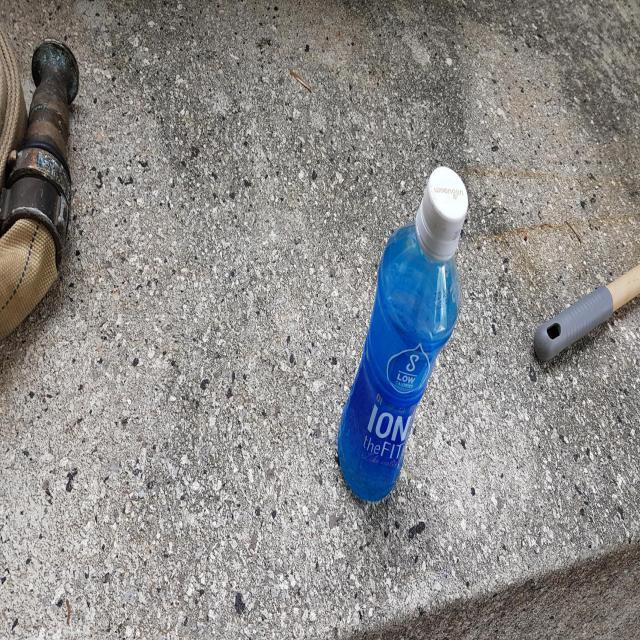plastic: (338, 165, 469, 501)
